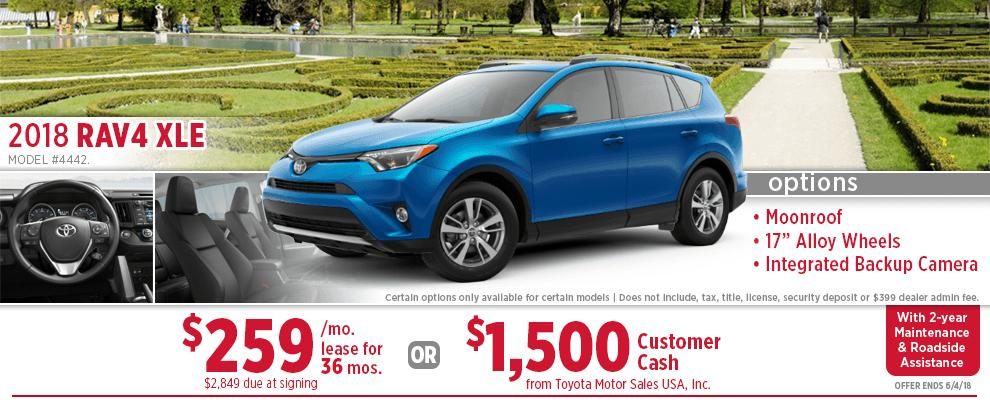Toyota RAV-4: (260, 59, 751, 284)
